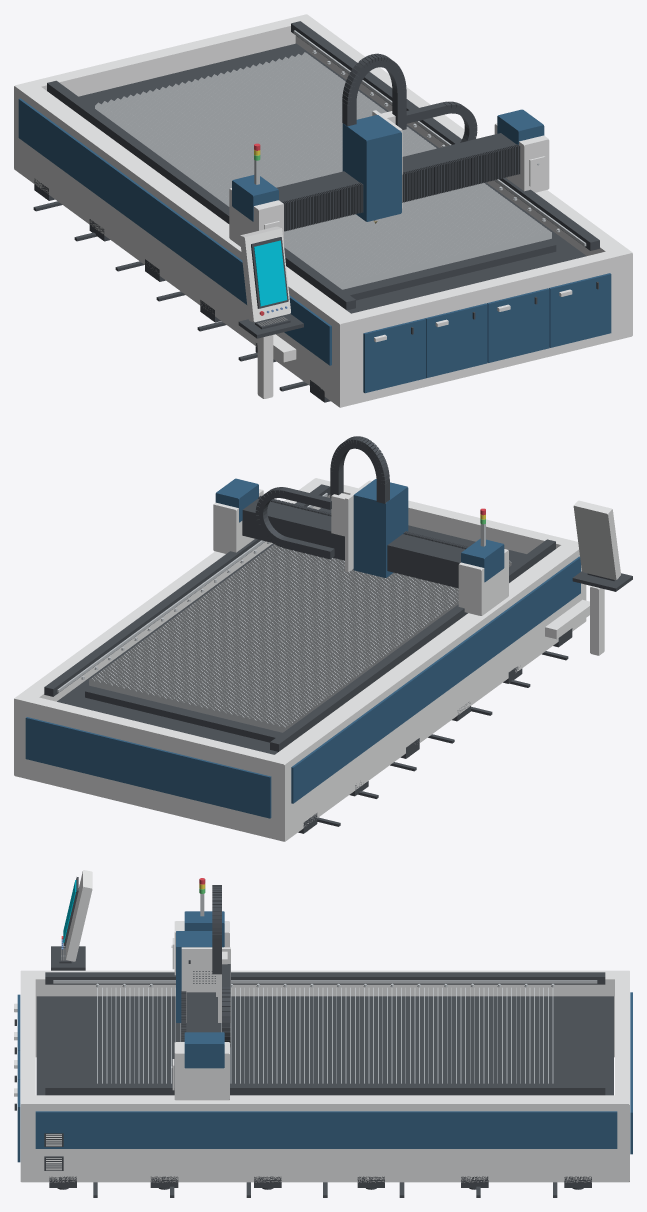
The picture shows the model from 3 angles, top to bottom: view 1: azimuth 30°, elevation 25°; view 2: azimuth 150°, elevation 25°; view 3: azimuth 270°, elevation 25°; orthographic projection. The views are drawn at different scales.
Parts seen in each view (by area): view 1: base-1, table-1, base-2, gantry-0, base-0, rails-0, carriage-0, cable-0, console-0, gantry-1, table-0, gantry-2 (+3 smaller); view 2: table-1, base-1, base-2, rails-0, gantry-0, base-0, console-0, carriage-0, cable-0, gantry-1, table-0, gantry-2 (+3 smaller); view 3: base-1, table-0, base-2, base-0, rails-0, table-1, gantry-1, gantry-2, carriage-1, rails-1, cable-0, gantry-0 (+3 smaller).
Boxes of the visible parts, box(x1,y1,x2,y2) form: base-1: box(14, 14, 632, 407); table-1: box(95, 52, 551, 289); base-2: box(18, 98, 611, 393); gantry-0: box(276, 133, 520, 231); base-0: box(33, 43, 598, 402); rails-0: box(47, 21, 599, 310); carriage-0: box(342, 115, 401, 221); cable-0: box(342, 53, 477, 142); console-0: box(239, 226, 296, 398); gantry-1: box(229, 123, 549, 246); table-0: box(342, 239, 556, 300); gantry-2: box(232, 109, 544, 221); table-1: box(89, 544, 511, 732); base-1: box(14, 478, 586, 841); base-2: box(25, 556, 580, 818); rails-0: box(44, 484, 555, 751); gantry-0: box(242, 495, 468, 588); base-0: box(57, 508, 572, 833); console-0: box(545, 500, 620, 655); carriage-0: box(353, 479, 408, 577); cable-0: box(255, 436, 389, 559); gantry-1: box(213, 489, 508, 615); table-0: box(85, 686, 282, 742); gantry-2: box(215, 478, 504, 582); base-1: box(14, 970, 629, 1182); table-0: box(92, 998, 557, 1083); base-2: box(17, 992, 632, 1162); base-0: box(14, 996, 613, 1197); rails-0: box(45, 972, 605, 1095); table-1: box(97, 987, 553, 1083); gantry-1: box(172, 921, 229, 1100); gantry-2: box(184, 911, 224, 1068); carriage-1: box(181, 947, 230, 1022); rails-1: box(53, 980, 597, 983); cable-0: box(212, 885, 230, 1047); gantry-0: box(181, 990, 217, 1041).
Size of the model in its own units: 3.55 by 2.25 by 5.38.
